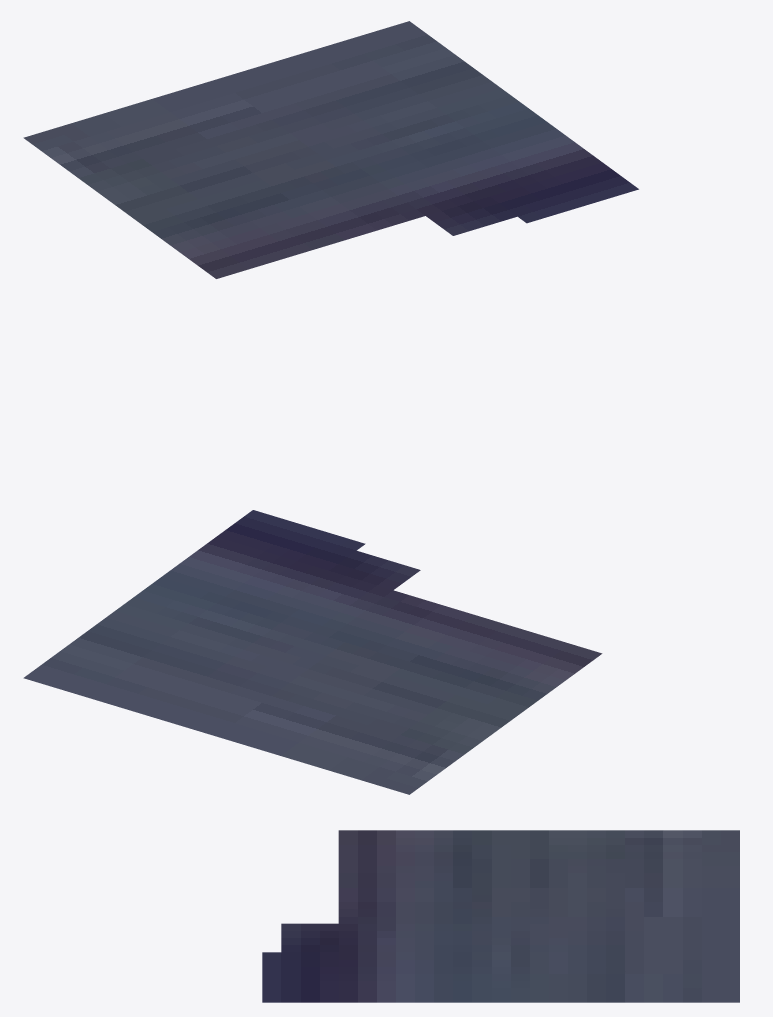
The model's file is sign_6.glb.
The picture shows the model from 3 angles, top to bottom: view 1: azimuth 30°, elevation 25°; view 2: azimuth 150°, elevation 25°; view 3: azimuth 270°, elevation 25°; orthographic projection. The views are drawn at different scales.
Parts seen in each view (by area): view 1: sign_6; view 2: sign_6; view 3: sign_6.
Boxes of the visible parts, x1=… form: sign_6: x1=23, y1=21, x2=638, y2=278; sign_6: x1=23, y1=510, x2=602, y2=794; sign_6: x1=262, y1=830, x2=739, y2=1002.
Size of the model in its own units: 0.0113 by 0.000632 by 0.0182.
1 material, 1 textured.
